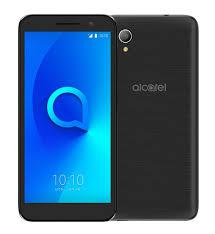Smartphone: (23, 16, 113, 219), (110, 15, 196, 222)
